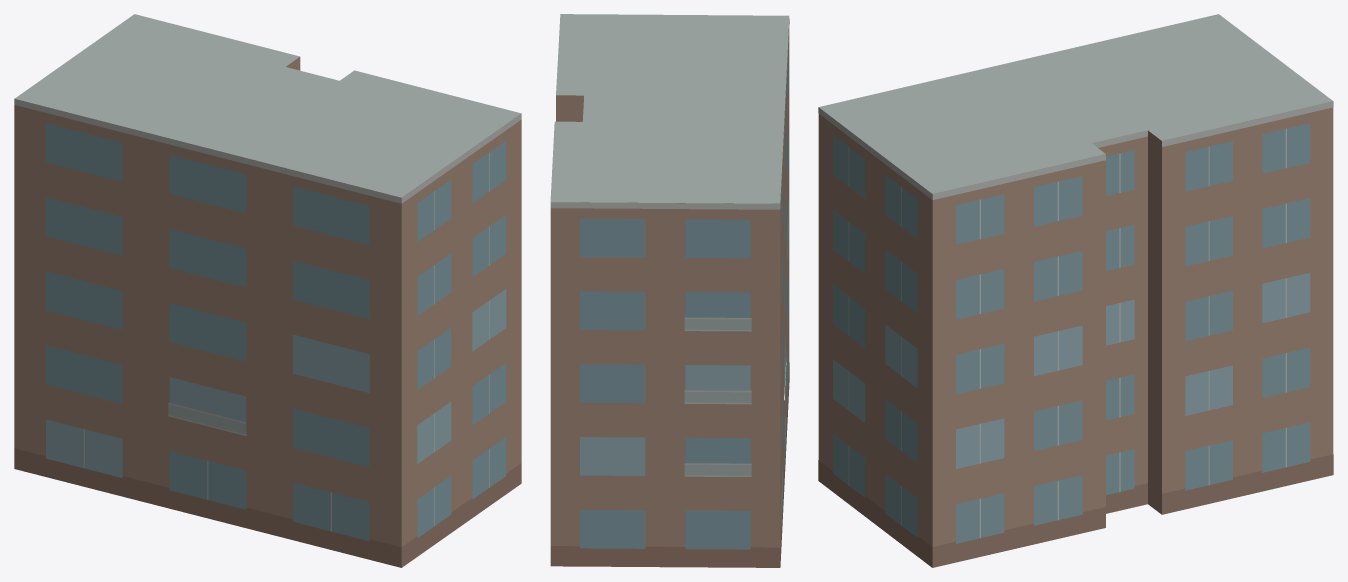
File: survey-upis-32786660.glb
3 views of the same model, side by side, from view 1: azimuth 30°, elevation 25°; view 2: azimuth 150°, elevation 25°; view 3: azimuth 270°, elevation 25° (orthographic). The views are drawn at different scales.
Visible parts, largest first — view 1: survey-upis-32786660.tmp; view 2: survey-upis-32786660.tmp; view 3: survey-upis-32786660.tmp.
Boxes of the visible parts, box(x1,y1,x2,y2) form: survey-upis-32786660.tmp: box(14, 14, 521, 567); survey-upis-32786660.tmp: box(550, 14, 789, 567); survey-upis-32786660.tmp: box(818, 14, 1333, 567).
Size of the model in its own units: 15.3 by 14.8 by 18.49.
